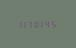five: (53, 19, 58, 27)
four: (47, 19, 52, 27)
one: (17, 20, 22, 28), (23, 20, 28, 28), (41, 19, 46, 27)
seven: (29, 20, 34, 28)
zero: (35, 20, 40, 27)
